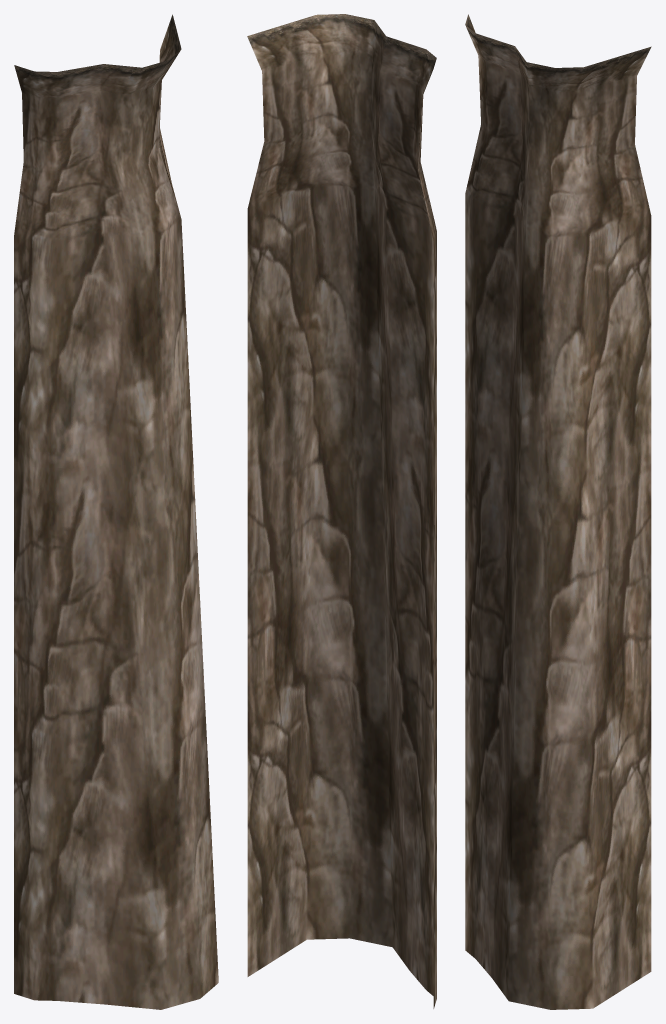
The model's file is OVERHILL_A_01_LINE82.fbx.
3 views of the same model, side by side, from view 1: azimuth 30°, elevation 25°; view 2: azimuth 150°, elevation 25°; view 3: azimuth 330°, elevation 25° (orthographic).
Visible parts, largest first — view 1: OVERHILL_A_01_LINE82; view 2: OVERHILL_A_01_LINE82; view 3: OVERHILL_A_01_LINE82.
Boxes of the visible parts, bbox=[...] form: OVERHILL_A_01_LINE82: bbox=[14, 14, 218, 1009]; OVERHILL_A_01_LINE82: bbox=[247, 14, 436, 1008]; OVERHILL_A_01_LINE82: bbox=[465, 14, 651, 1009].
Size of the model in its own units: 32980 by 170884 by 22042.
2 materials, 2 textured.
